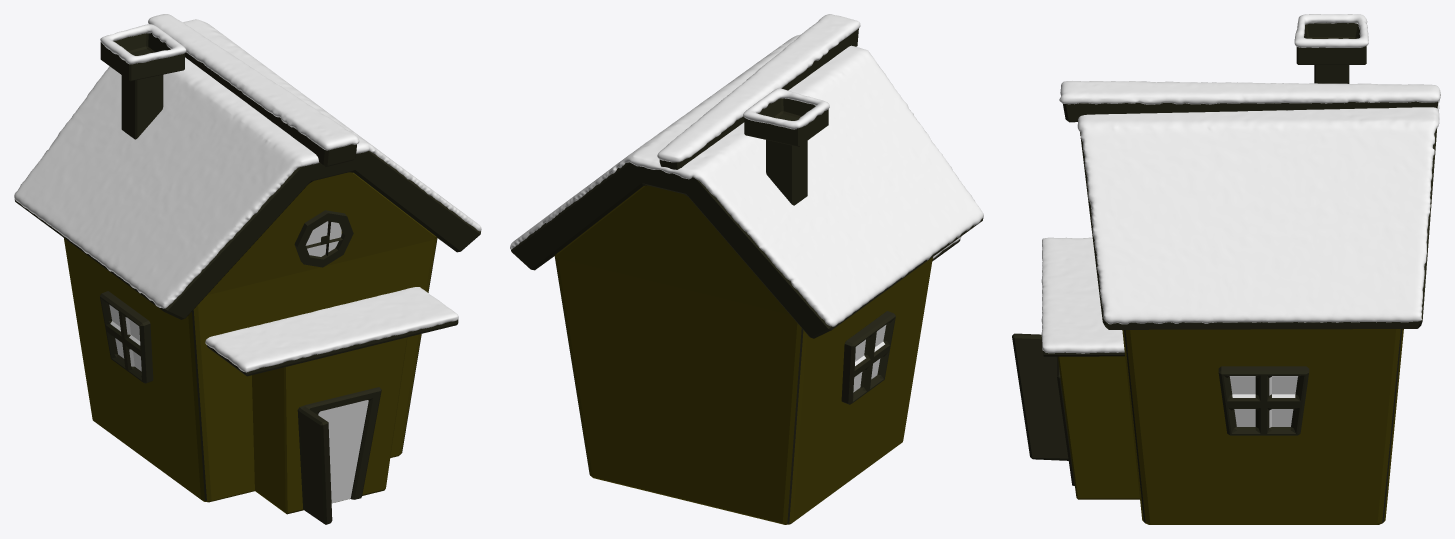
The model's file is new_house.fbx.
3 renders of one model, left to right at view 1: azimuth 30°, elevation 25°; view 2: azimuth 150°, elevation 25°; view 3: azimuth 270°, elevation 25°, orthographic. The views are drawn at different scales.
Visible parts, largest first — view 1: Plane, SnowBall.002, Plane.003, SnowBall.001, Plane.001, SnowBall.003, Plane.010, Plane.006, Plane.004, Plane.008, Circle, Plane.002 (+3 smaller); view 2: Plane, SnowBall.002, Plane.001, SnowBall.003, Plane.006, Plane.004, SnowBall.004, Plane.002; view 3: SnowBall.002, Plane, Plane.003, SnowBall.003, SnowBall.001, Plane.005, Plane.010, Plane.002, Plane.001, Plane.006, SnowBall.004.
Part boxes in pixels (bbox=[...]): Plane: bbox=[64, 172, 437, 502]; SnowBall.002: bbox=[14, 19, 481, 308]; Plane.003: bbox=[252, 337, 407, 514]; SnowBall.001: bbox=[205, 287, 458, 372]; Plane.001: bbox=[14, 151, 480, 319]; SnowBall.003: bbox=[148, 14, 359, 150]; Plane.010: bbox=[297, 387, 381, 524]; Plane.006: bbox=[100, 33, 184, 139]; Plane.004: bbox=[100, 291, 153, 383]; Plane.008: bbox=[318, 400, 368, 503]; Circle: bbox=[294, 210, 353, 267]; Plane.002: bbox=[185, 52, 356, 166]; Plane: bbox=[554, 185, 932, 524]; SnowBall.002: bbox=[510, 34, 983, 326]; Plane.001: bbox=[511, 162, 983, 338]; SnowBall.003: bbox=[657, 14, 860, 162]; Plane.006: bbox=[744, 98, 828, 205]; Plane.004: bbox=[841, 311, 895, 404]; SnowBall.004: bbox=[743, 88, 829, 129]; Plane.002: bbox=[659, 28, 858, 169]; SnowBall.002: bbox=[1077, 100, 1439, 324]; Plane: bbox=[1122, 329, 1403, 524]; Plane.003: bbox=[1058, 356, 1139, 499]; SnowBall.003: bbox=[1059, 81, 1440, 104]; SnowBall.001: bbox=[1041, 237, 1124, 353]; Plane.005: bbox=[1218, 366, 1309, 435]; Plane.010: bbox=[1012, 333, 1074, 485]; Plane.002: bbox=[1062, 101, 1438, 122]; Plane.001: bbox=[1080, 128, 1437, 329]; Plane.006: bbox=[1296, 23, 1366, 83]; SnowBall.004: bbox=[1294, 14, 1368, 47].
Size of the model in its own units: 308 by 358 by 339.
